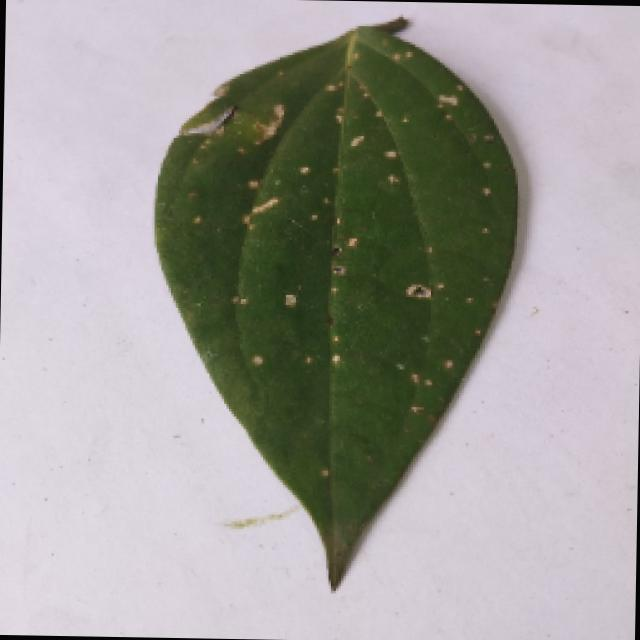pollu-disease: (130, 17, 550, 592)
